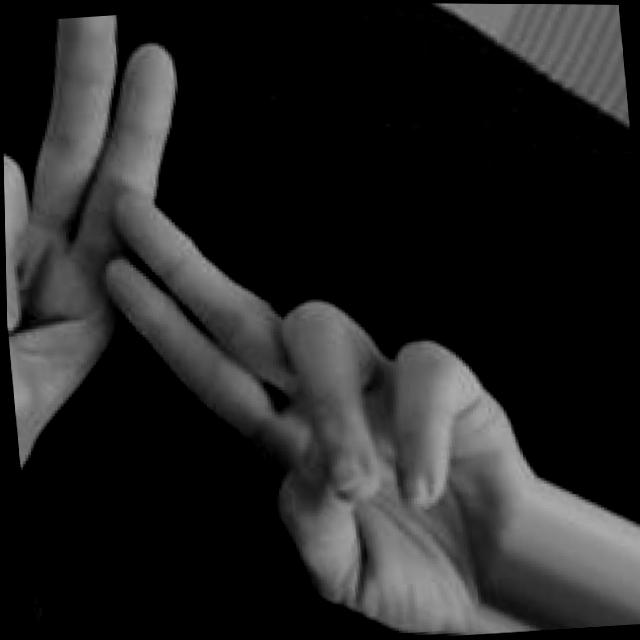K: (0, 0, 550, 640)
